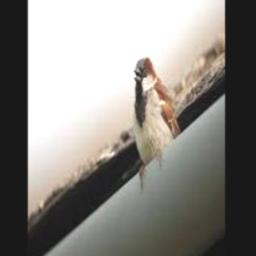Sparrow: (133, 58, 181, 185)
